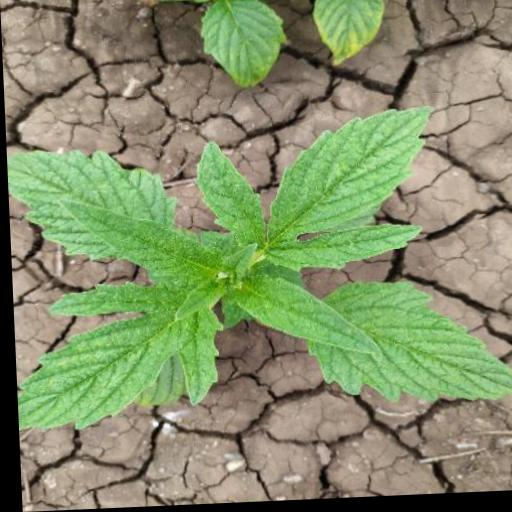crop: (4, 105, 512, 443)
